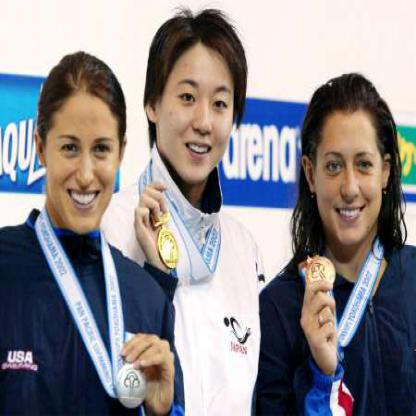face: (46, 63, 121, 234), (159, 22, 238, 184), (314, 89, 385, 247)
